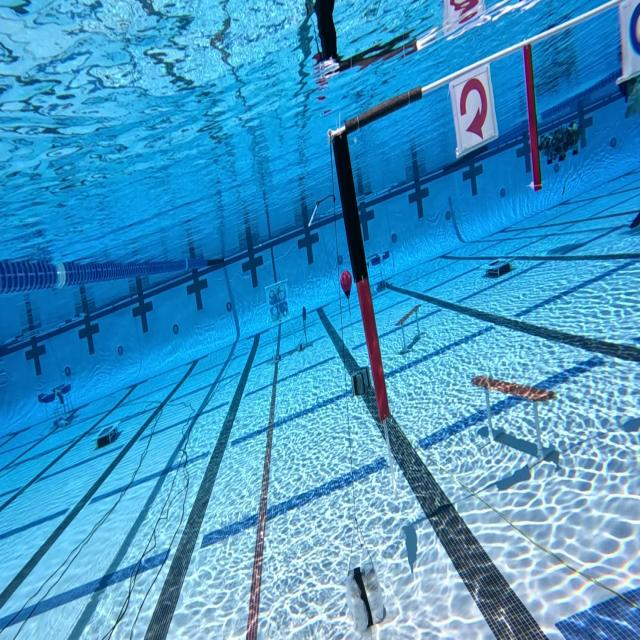red_side: (451, 58, 498, 152)
